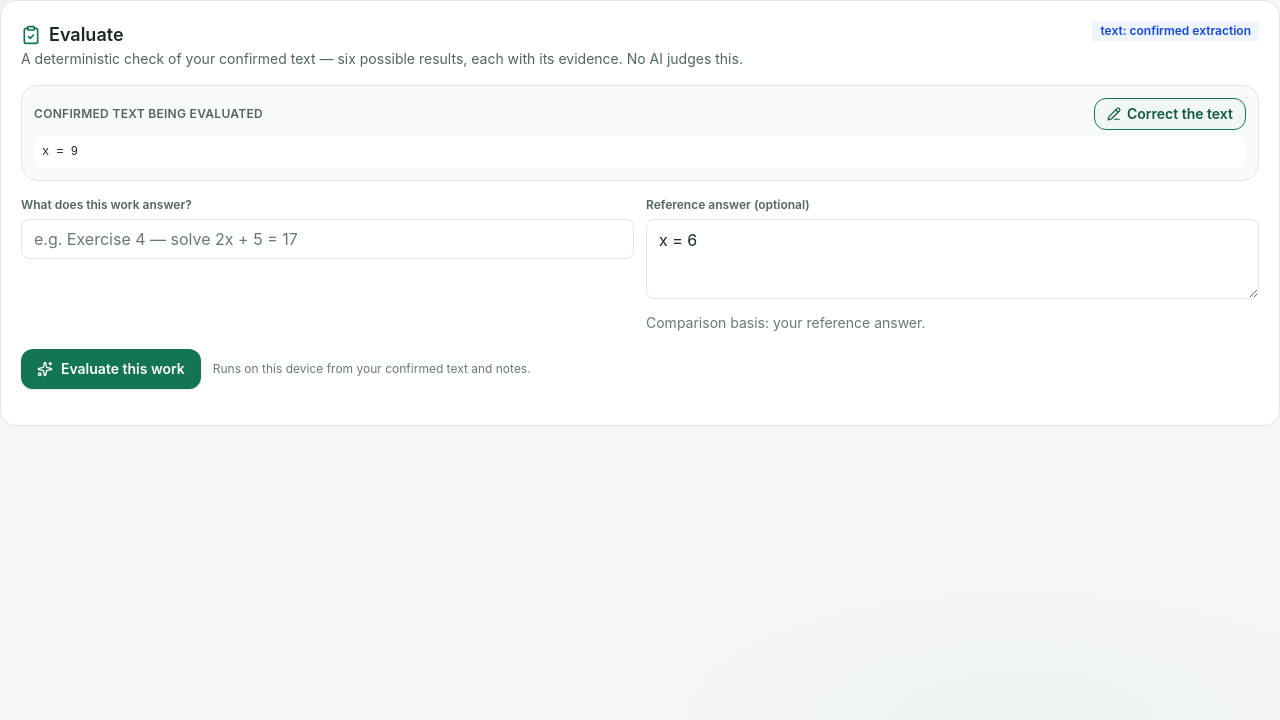
Test case: EvaluationPanel › shows a definite mismatch as a confirmed error with its caveat
What coordinates should you click on to do the following:
click the button with test id "evaluate-button"
I would click on:
 (111, 369)
Its box is [21,349,201,389].
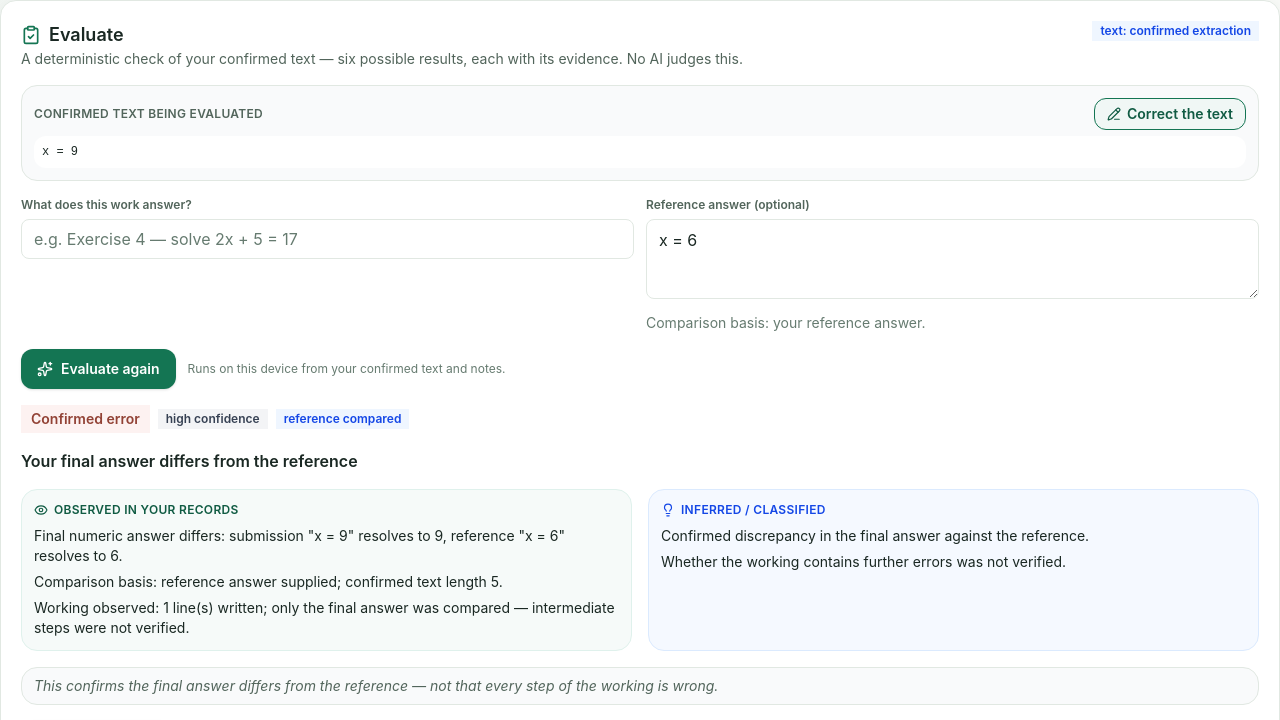
Now the text with test id "evaluation-outcome" reads "Confirmed error", box [31,410,140,427]
Now the text with test id "evaluation-caveat" shows "not that every step", box [34,677,718,694]
